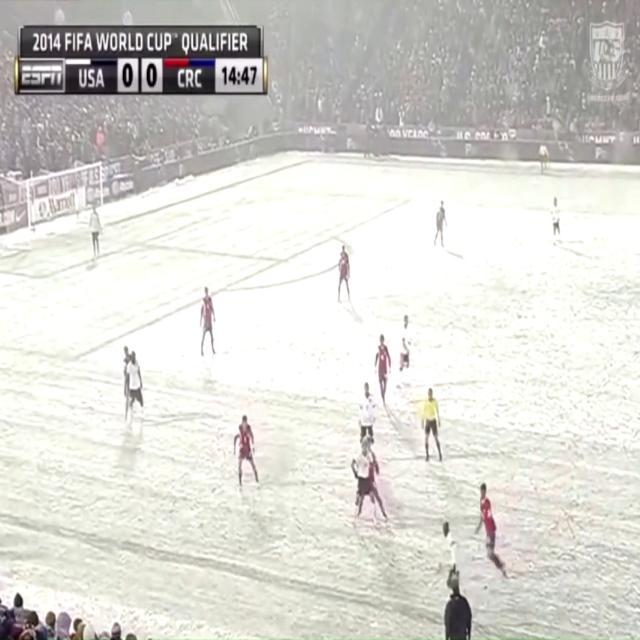goalkeeper: (89, 203, 103, 264)
player: (478, 483, 510, 591), (231, 409, 266, 493), (371, 331, 396, 412), (366, 437, 388, 523), (439, 513, 462, 593), (357, 377, 378, 459), (356, 441, 376, 527), (197, 280, 218, 361), (396, 314, 418, 390), (335, 243, 357, 317), (125, 356, 146, 432), (113, 339, 133, 408), (430, 192, 450, 248), (552, 197, 566, 255)
referee: (424, 387, 454, 477), (539, 140, 551, 178)
